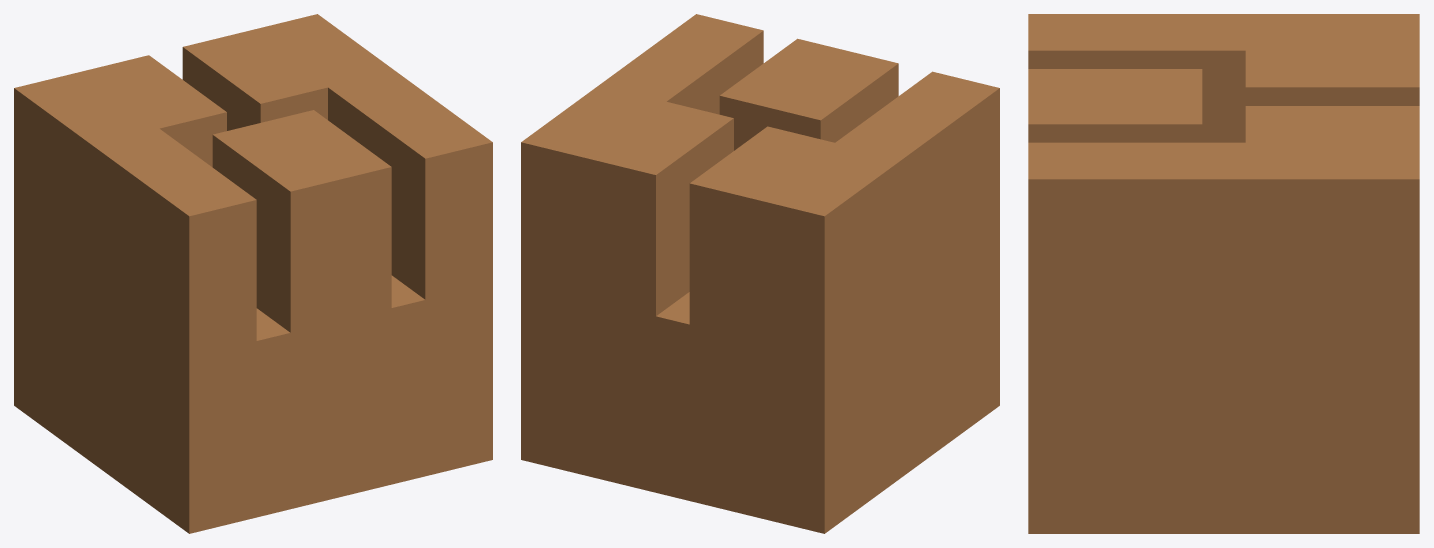
Rendered from Thin_Connect_2S_to_M_Model.fbx.
3 renders of one model, left to right at view 1: azimuth 30°, elevation 25°; view 2: azimuth 150°, elevation 25°; view 3: azimuth 270°, elevation 25°, orthographic. The views are drawn at different scales.
Visible parts, largest first — view 1: Cube; view 2: Cube; view 3: Cube.
Part boxes in pixels (x1,y1,x2,y2): Cube: (14,14,492,533); Cube: (521,14,999,533); Cube: (1028,14,1419,533).
Bounding box in the file's own units: 100 × 100 × 100.
